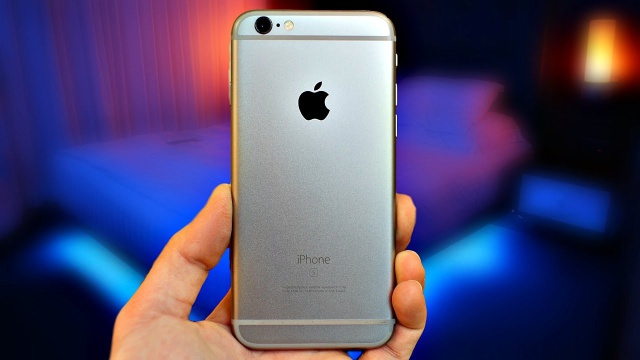apple: (285, 76, 346, 130)
